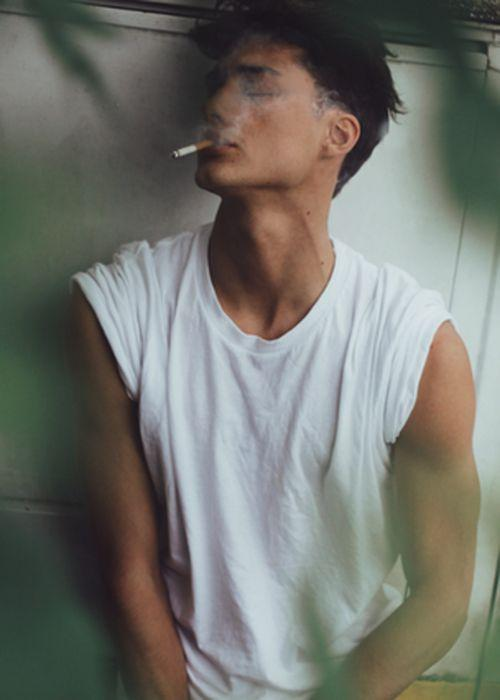cigarette: (169, 136, 216, 161)
